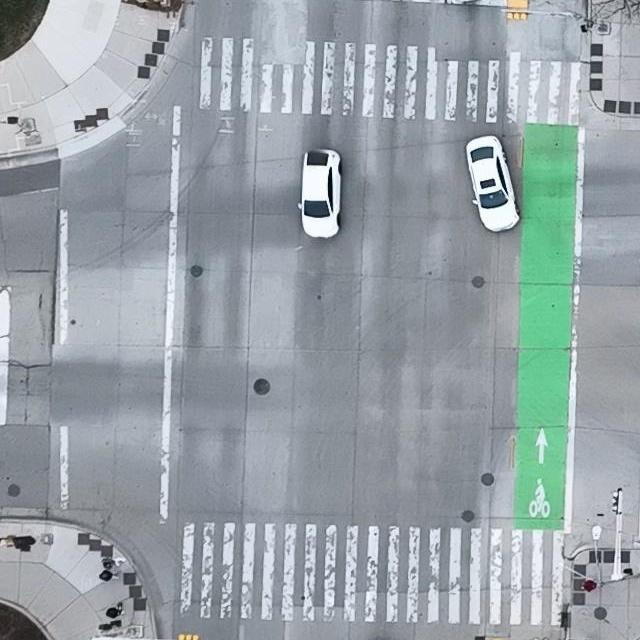car: (465, 135, 520, 233), (299, 147, 343, 239)
